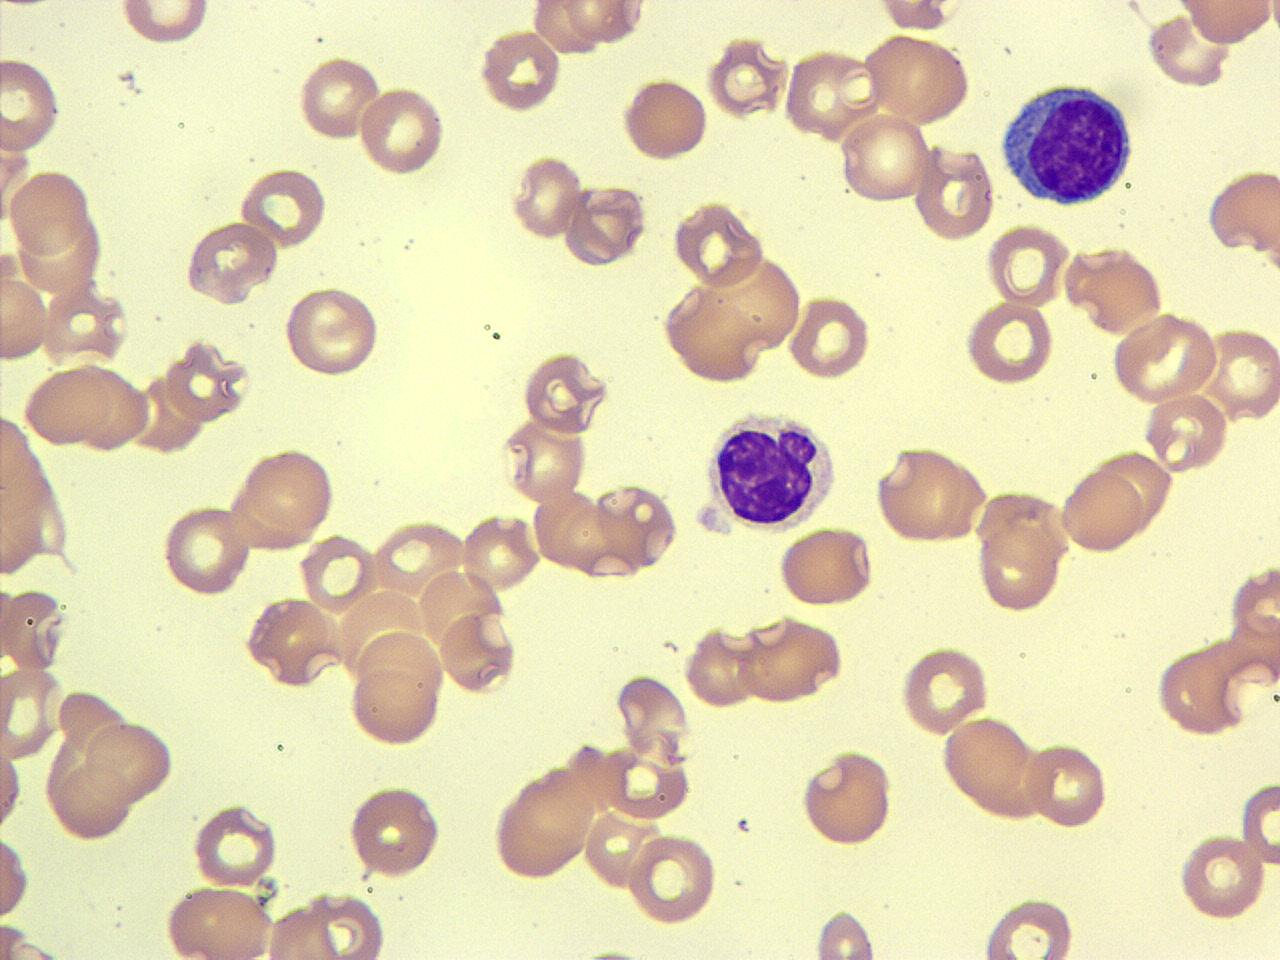RBC: (1150, 636, 1274, 738), (872, 442, 992, 546), (347, 627, 447, 748), (488, 769, 596, 882), (19, 360, 151, 451), (941, 712, 1045, 822), (657, 284, 767, 386), (975, 497, 1067, 616), (732, 612, 848, 706), (1109, 312, 1221, 408), (862, 32, 973, 126), (798, 744, 895, 850), (345, 782, 444, 880), (1060, 243, 1168, 334), (710, 251, 804, 352), (244, 594, 343, 690), (283, 284, 383, 378), (670, 196, 768, 290), (896, 642, 992, 738), (838, 112, 932, 208), (159, 502, 254, 598), (626, 830, 720, 927), (1176, 828, 1270, 924), (356, 82, 446, 181), (160, 883, 278, 959), (242, 444, 338, 536), (777, 522, 878, 610), (912, 140, 996, 244), (959, 298, 1058, 386), (783, 45, 871, 143), (82, 716, 178, 804), (518, 348, 612, 438), (620, 72, 710, 165), (500, 414, 592, 505), (181, 219, 280, 303), (785, 291, 876, 382), (1024, 736, 1110, 832), (592, 478, 680, 570), (5, 166, 93, 258), (294, 53, 381, 145), (190, 800, 280, 887), (1057, 466, 1145, 556), (703, 30, 788, 123), (1202, 323, 1280, 424), (1090, 446, 1176, 534), (163, 338, 252, 425), (238, 166, 332, 248), (612, 670, 692, 764), (40, 280, 127, 368), (476, 26, 563, 113), (984, 222, 1072, 308), (602, 740, 694, 822), (563, 182, 648, 270), (1143, 390, 1233, 473), (437, 605, 519, 695), (1203, 164, 1279, 261), (49, 758, 133, 844), (460, 510, 543, 595), (509, 150, 584, 243), (978, 893, 1081, 959), (297, 532, 378, 616), (1145, 11, 1231, 90), (296, 888, 390, 960), (0, 664, 65, 764), (0, 55, 63, 156), (684, 624, 758, 710), (1, 584, 70, 672), (0, 270, 52, 364), (261, 903, 346, 960), (1227, 560, 1279, 652), (1172, 0, 1274, 47), (118, 0, 213, 48), (528, 0, 606, 58), (558, 0, 645, 46), (811, 904, 882, 960), (1240, 775, 1280, 871), (0, 490, 43, 577), (0, 407, 36, 508), (873, 0, 966, 35), (0, 830, 31, 920), (1, 726, 24, 840)
WBC: (994, 72, 1140, 209), (702, 403, 844, 536)
